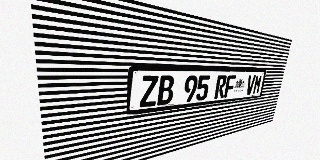5: (196, 75, 210, 101)
9: (183, 75, 198, 102)
B: (157, 75, 175, 106)
F: (224, 75, 236, 98)
M: (252, 75, 263, 94)
R: (214, 75, 227, 99)
V: (245, 75, 256, 95)
Z: (140, 76, 159, 108)
